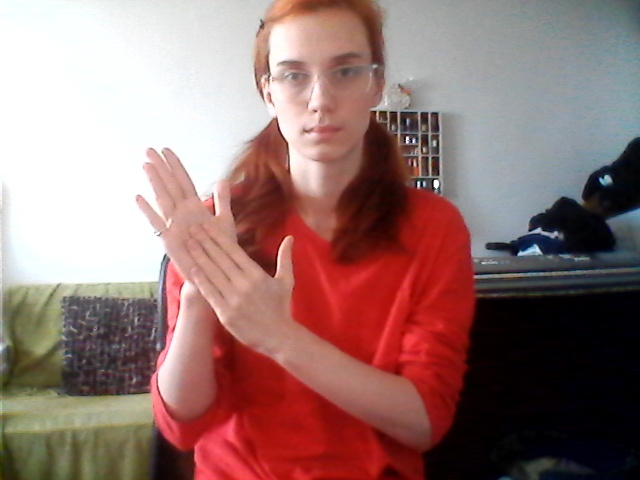m: (130, 144, 301, 369)
